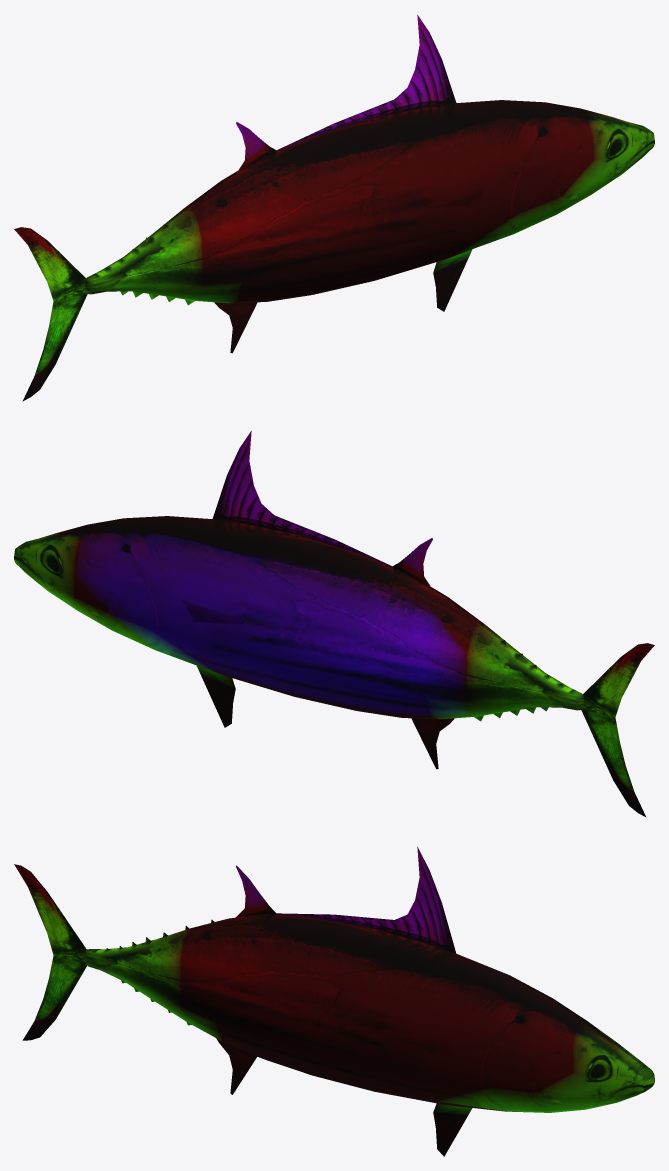
Rendered from skipjack_tuna.glb.
The picture shows the model from 3 angles, top to bottom: view 1: azimuth 30°, elevation 25°; view 2: azimuth 150°, elevation 25°; view 3: azimuth 330°, elevation 25°; orthographic projection.
Visible parts, largest first — view 1: SkipjackTuna; view 2: SkipjackTuna; view 3: SkipjackTuna.
Part boxes in pixels (x1,y1,x2,y2): SkipjackTuna: [14, 15, 654, 401]; SkipjackTuna: [14, 431, 654, 817]; SkipjackTuna: [14, 846, 654, 1156].
Bounding box in the file's own units: 1 × 0.4543 × 0.1326.
1 material, 1 textured.
